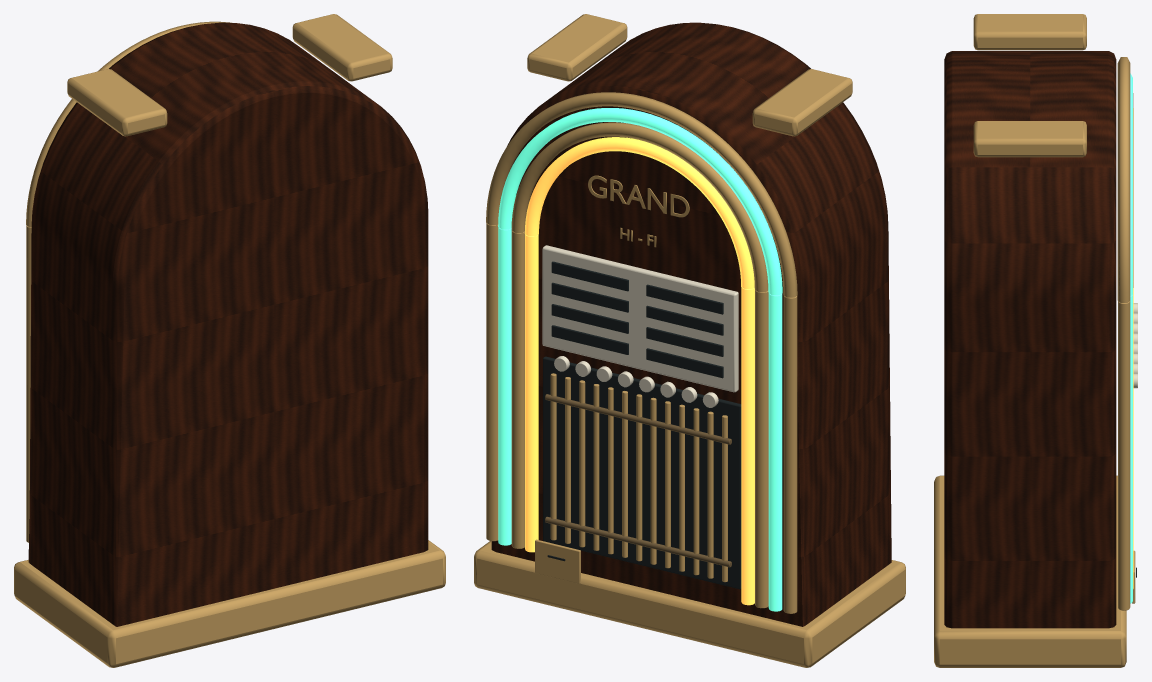
File: hotel-jukebox.glb
3 views of the same model, side by side, from view 1: azimuth 30°, elevation 25°; view 2: azimuth 150°, elevation 25°; view 3: azimuth 270°, elevation 25° (orthographic). The views are drawn at different scales.
Visible parts, largest first — view 1: Static | Walnut | original longitudinal grain.001, Static | Aged champagne brass.001; view 2: Static | Walnut | original longitudinal grain.001, Static | Aged champagne brass.001, Static | Ebony and deep recesses.001, Static | Jade illuminated glass.001, Static | Warm ivory porcelain.001, Static | Warm illuminated amber.001, Static | Dark patinated bronze.001; view 3: Static | Walnut | original longitudinal grain.001, Static | Aged champagne brass.001, Static | Jade illuminated glass.001, Static | Warm illuminated amber.001, Static | Warm ivory porcelain.001.
Part boxes in pixels (x1,y1,x2,y2): Static | Walnut | original longitudinal grain.001: (28, 22, 428, 626); Static | Aged champagne brass.001: (14, 14, 445, 667); Static | Walnut | original longitudinal grain.001: (491, 22, 891, 626); Static | Aged champagne brass.001: (474, 14, 905, 667); Static | Ebony and deep recesses.001: (543, 261, 741, 589); Static | Jade illuminated glass.001: (498, 108, 782, 611); Static | Warm ivory porcelain.001: (542, 245, 738, 407); Static | Warm illuminated amber.001: (524, 137, 754, 605); Static | Dark patinated bronze.001: (545, 394, 731, 567); Static | Walnut | original longitudinal grain.001: (944, 51, 1116, 628); Static | Aged champagne brass.001: (934, 14, 1135, 667); Static | Jade illuminated glass.001: (1130, 73, 1132, 603); Static | Warm illuminated amber.001: (1133, 108, 1133, 588); Static | Warm ivory porcelain.001: (1133, 303, 1137, 388).
Size of the model in its own units: 1.5 by 2.28 by 0.8053.
Materials: 7 (1 with a texture image).
